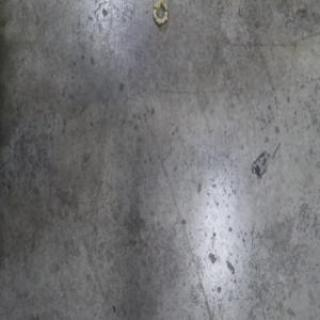Nuttrack_idkeyframe: (151, 0, 168, 29)
